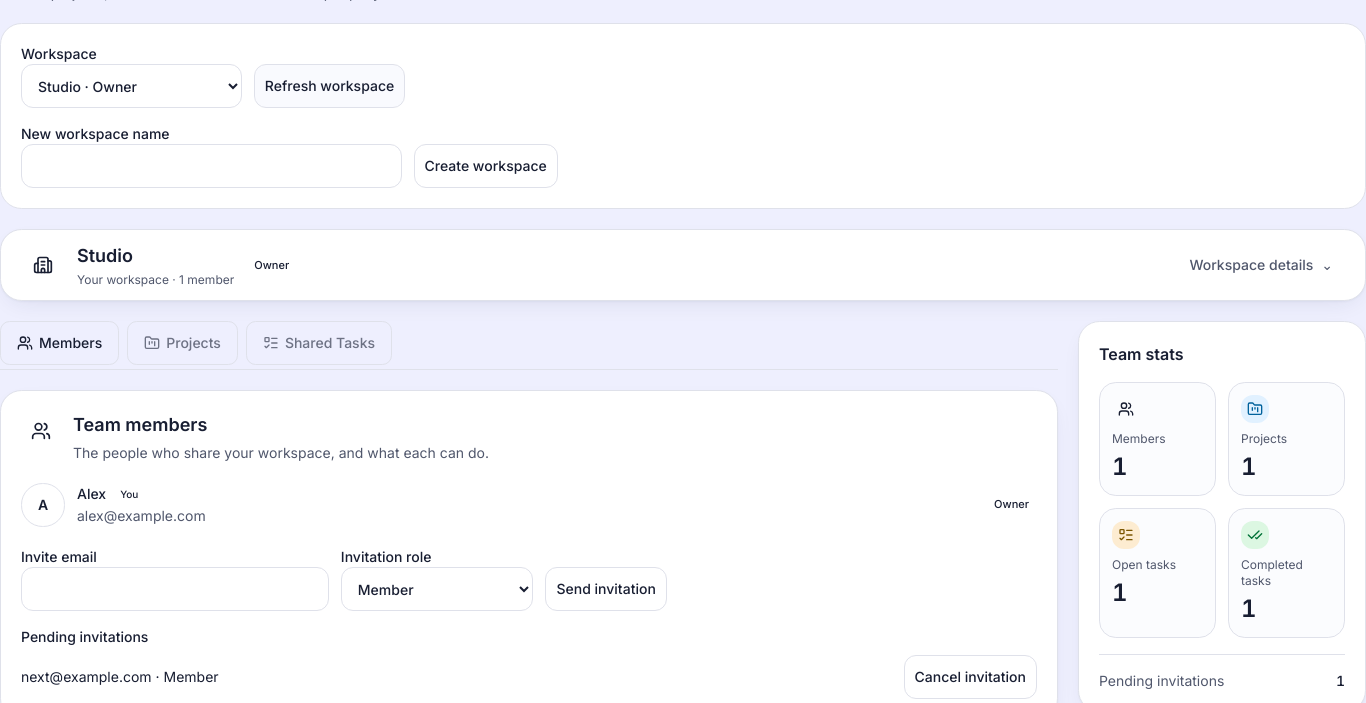
Test case: account team UI › shows accurate team statistics and reveals projects and workspace editing on demand
The image size is (1366, 703).
Click the heading "Workspace details ⌄" at (1261, 264), box [1189,256,1333,273]
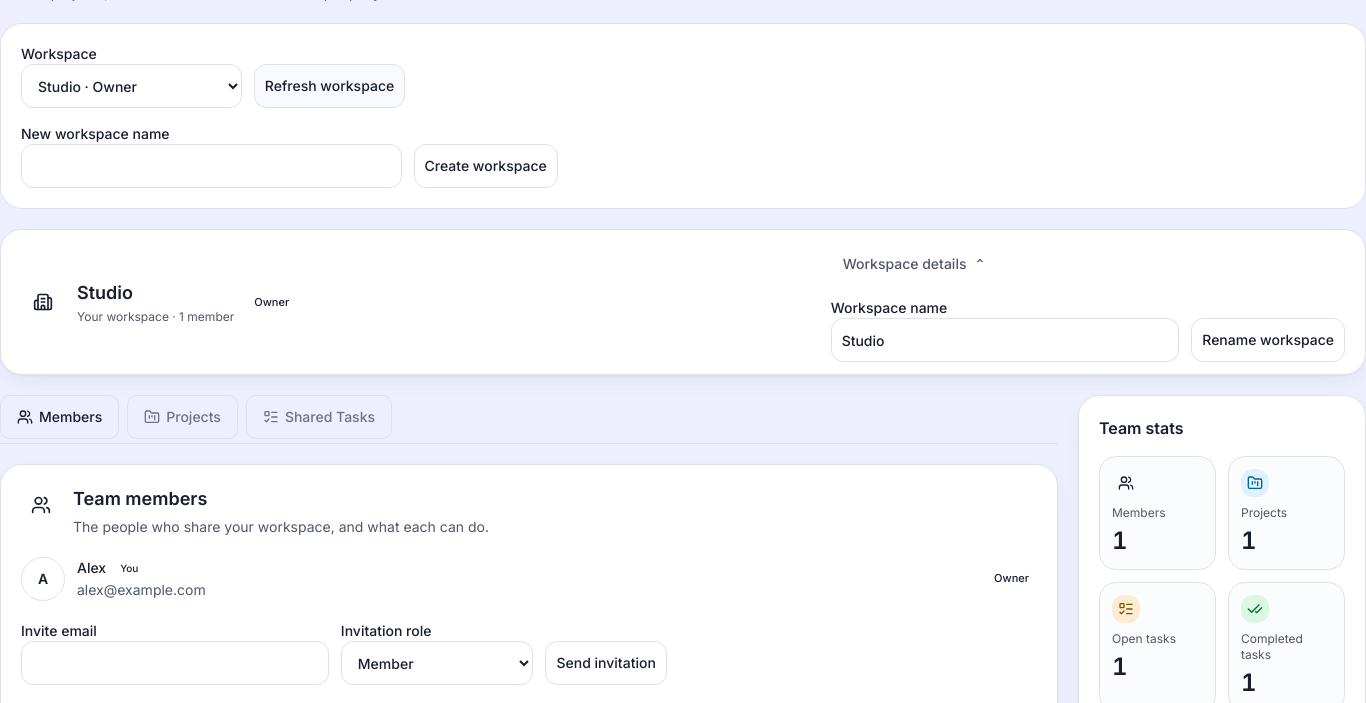
Check: the field labelled "New project name" is not shown
Check: the field labelled "Workspace name" holds "Studio", box [831,318,1179,362]
Click the tab "Projects" at (183, 417), box [127,395,238,439]
(page scrolled)
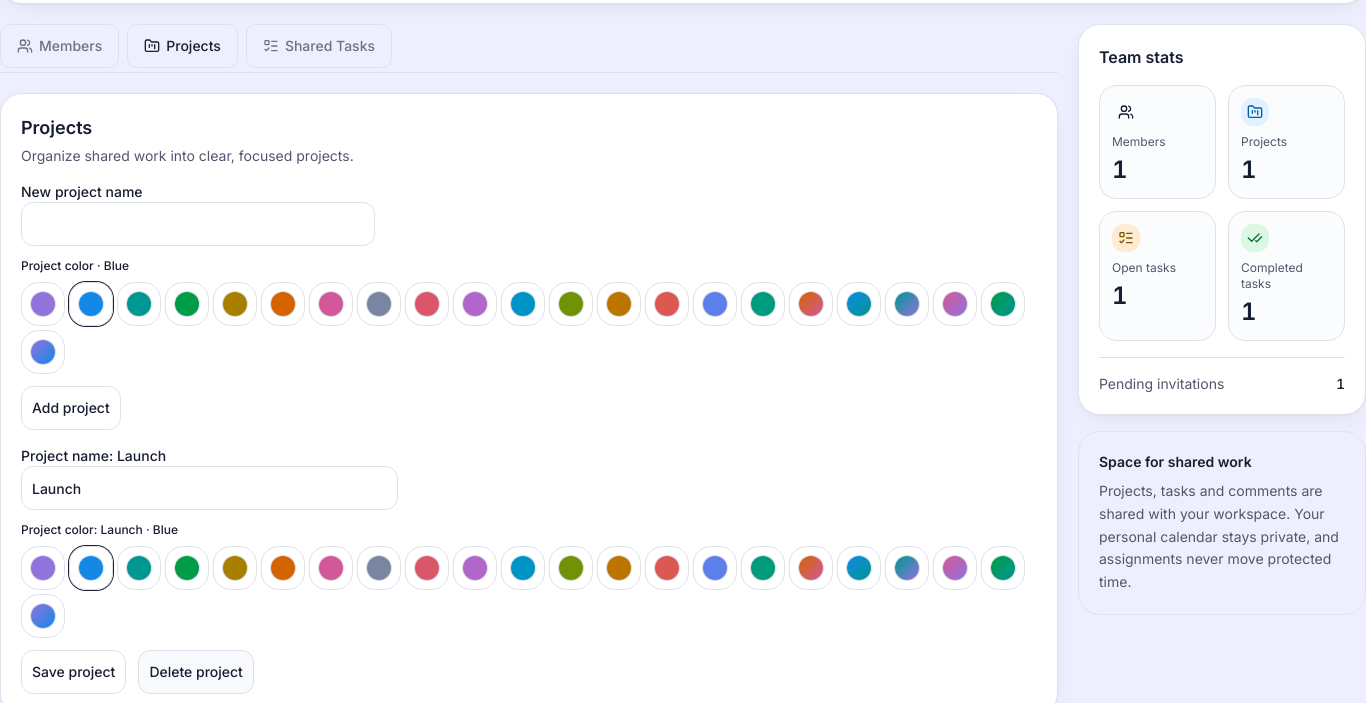
Check: the field labelled "New project name" is shown, box [21,202,374,246]
Check: the field labelled "Project name: Launch" holds "Launch", box [21,466,398,510]
